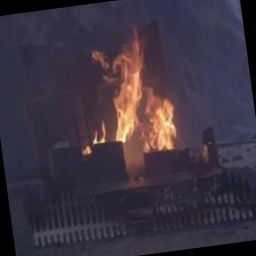fire: (69, 22, 188, 168)
